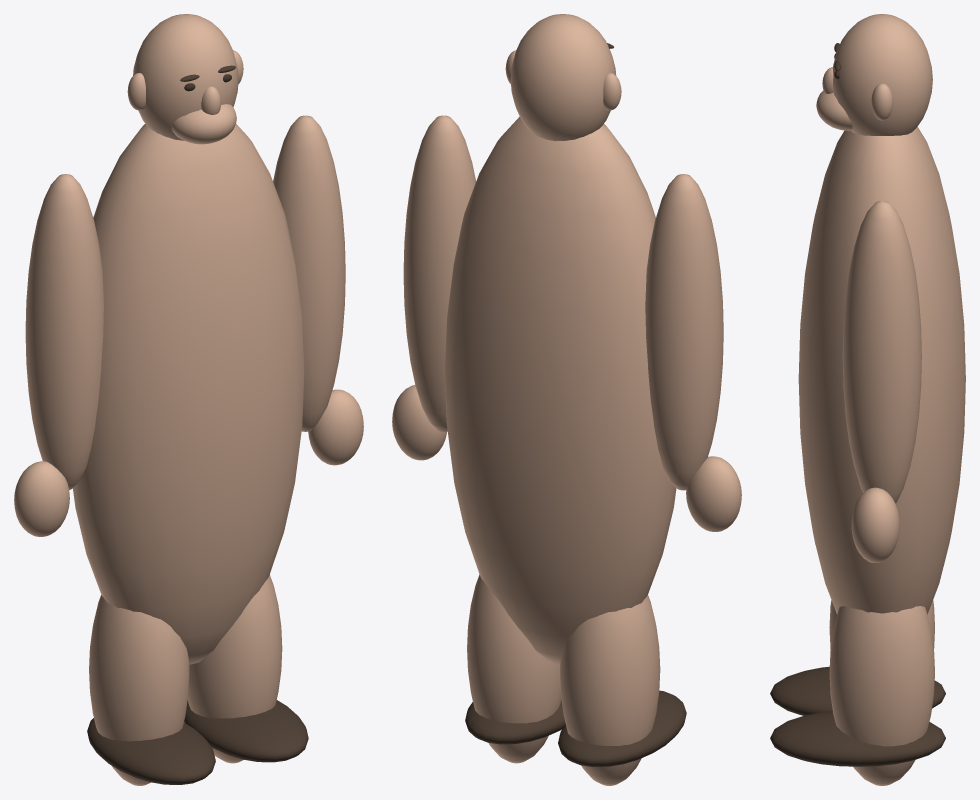
Rendered from saudi-doctor-base.gltf.
3 renders of one model, left to right at view 1: azimuth 30°, elevation 25°; view 2: azimuth 150°, elevation 25°; view 3: azimuth 270°, elevation 25°, orthographic.
Visible parts, largest first — view 1: Body_Core, Left_Arm, Right_Arm, Left_Leg, Right_Leg, Head, Left_Shoe, Right_Shoe, Left_Hand, Right_Hand, Jaw; view 2: Body_Core, Left_Arm, Right_Arm, Left_Leg, Head, Right_Leg, Left_Shoe, Left_Hand, Right_Hand, Right_Shoe; view 3: Body_Core, Right_Arm, Right_Leg, Head, Right_Shoe, Right_Hand, Left_Shoe, Jaw, Right_Ear, Left_Leg.
Part boxes in pixels (left/top/right/bottom): Body_Core: left=73, top=124, right=304, bottom=664; Left_Arm: left=25, top=174, right=103, bottom=489; Right_Arm: left=273, top=115, right=345, bottom=431; Left_Leg: left=89, top=595, right=189, bottom=785; Right_Leg: left=187, top=574, right=282, bottom=763; Head: left=133, top=14, right=238, bottom=140; Left_Shoe: left=87, top=718, right=215, bottom=784; Right_Shoe: left=184, top=700, right=308, bottom=762; Left_Hand: left=14, top=461, right=69, bottom=536; Right_Hand: left=308, top=389, right=363, bottom=465; Jaw: left=171, top=104, right=236, bottom=144; Body_Core: left=444, top=116, right=676, bottom=664; Left_Arm: left=645, top=174, right=723, bottom=490; Right_Arm: left=403, top=115, right=475, bottom=431; Left_Leg: left=559, top=595, right=660, bottom=785; Head: left=510, top=14, right=616, bottom=141; Right_Leg: left=467, top=574, right=561, bottom=763; Left_Shoe: left=558, top=690, right=686, bottom=766; Left_Hand: left=686, top=456, right=741, bottom=531; Right_Hand: left=392, top=385, right=446, bottom=460; Right_Shoe: left=465, top=700, right=565, bottom=744; Body_Core: left=798, top=126, right=965, bottom=614; Right_Arm: left=842, top=201, right=921, bottom=503; Right_Leg: left=829, top=606, right=934, bottom=785; Head: left=832, top=14, right=932, bottom=135; Right_Shoe: left=770, top=711, right=945, bottom=766; Right_Hand: left=851, top=487, right=899, bottom=562; Left_Shoe: left=770, top=666, right=945, bottom=715; Jaw: left=816, top=90, right=852, bottom=130; Right_Ear: left=871, top=83, right=893, bottom=120; Left_Leg: left=829, top=600, right=934, bottom=649.
Bounding box in the file's own units: 0.89 × 1.86 × 0.445.
